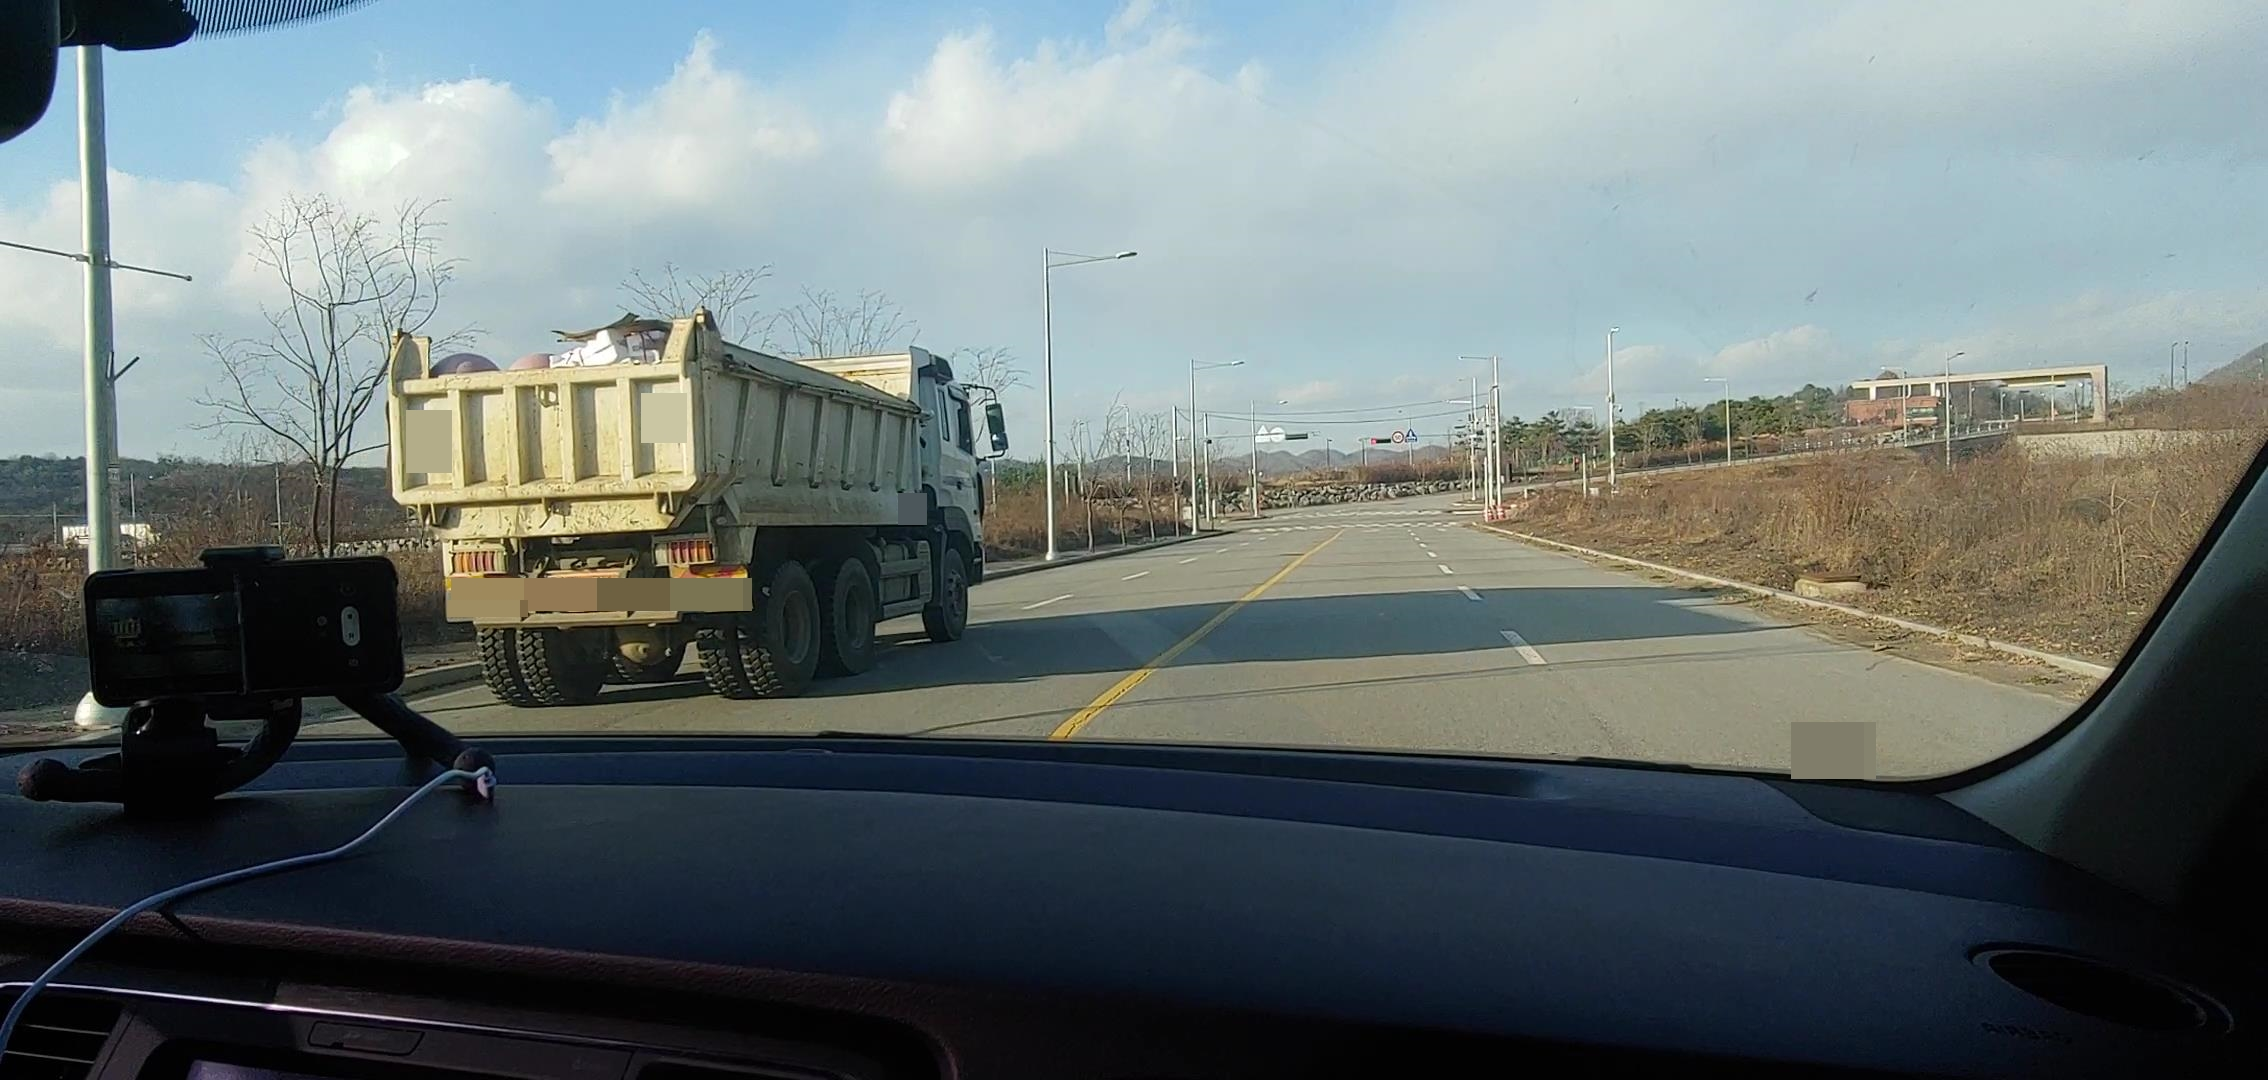불법차량: (383, 304, 1011, 709)
